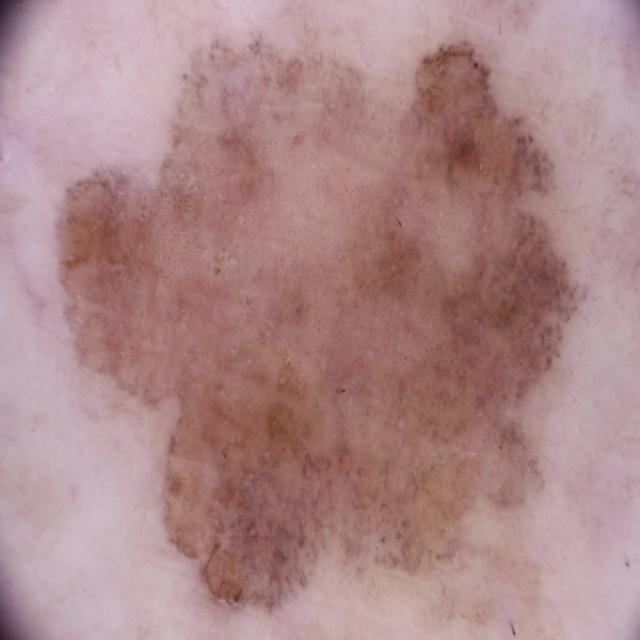Skin-Cancer Pigmented benign keratosis: (32, 15, 617, 640)
